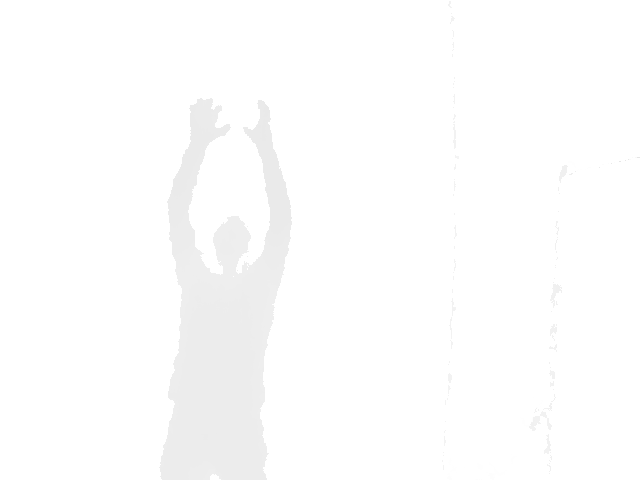hand: (187, 96, 232, 149), (242, 98, 275, 146)
head: (212, 216, 250, 271)
person: (157, 95, 295, 480)
